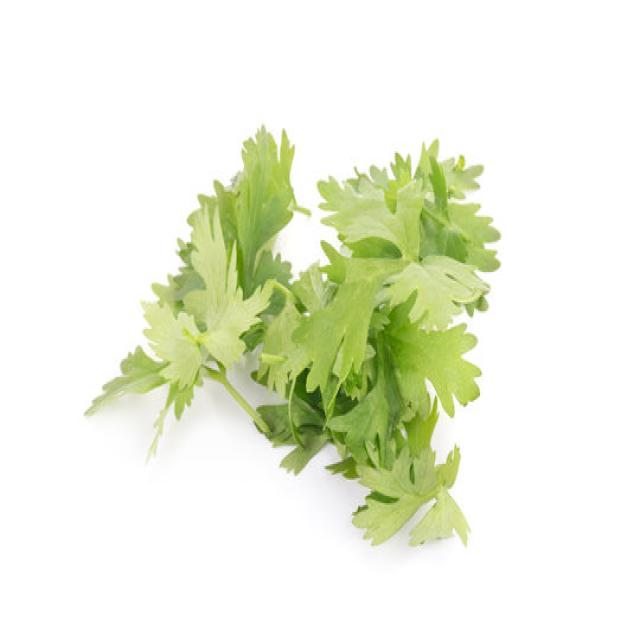Coriander Leaves: (83, 122, 501, 548)
